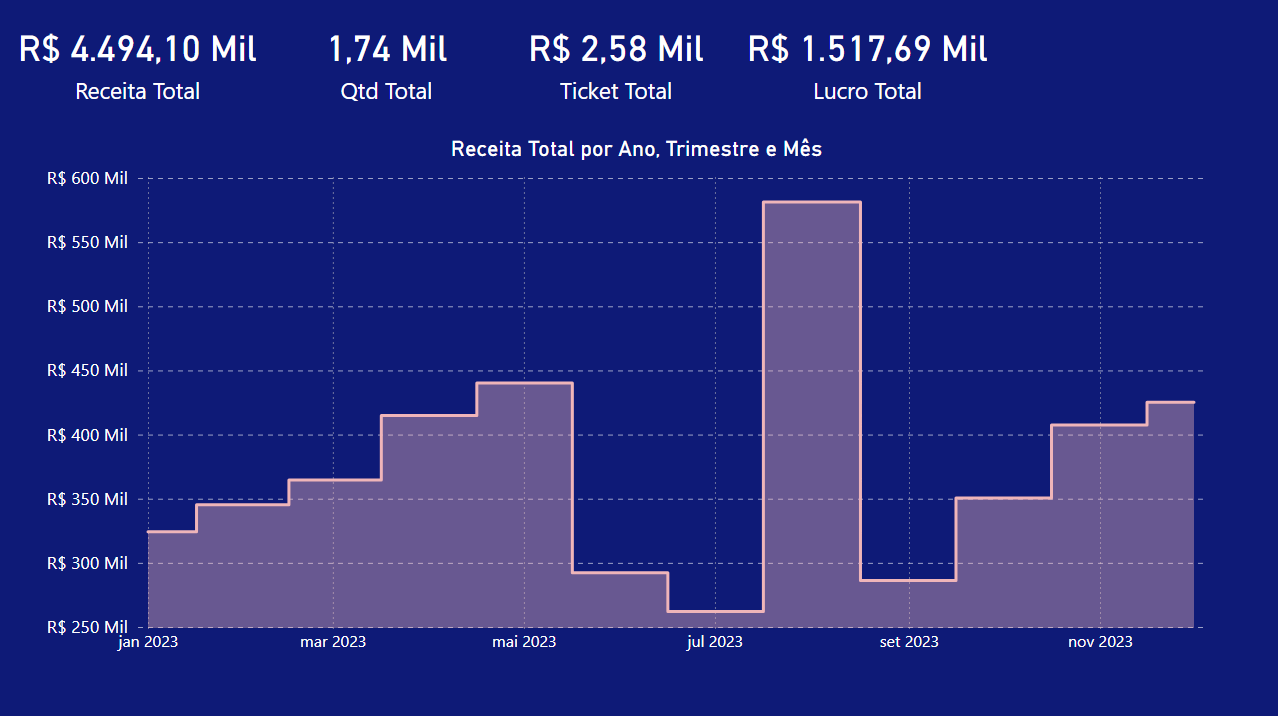

This screenshot's page, from the dashboard's own definition file:
{"tool":"powerbi","page":{"name":"Página 2","canvas":[1280,720],"ordinal":1},"visuals":[{"type":"card","fields":{"Values":["Medidas.Receita Total"]},"box":[0,0,274.8,122.9],"z":0},{"type":"card","fields":{"Values":["Medidas.Qtd Total"]},"box":[274.8,0,223.6,122.9],"z":1000},{"type":"card","fields":{"Values":["Medidas.Ticket Total"]},"box":[501.8,0,228.7,122.9],"z":2000},{"type":"card","fields":{"Values":["Medidas.Lucro Total"]},"box":[730.5,0,274.8,122.9],"z":3000},{"type":"lineChart","fields":{"Y":["Medidas.Receita Total"],"Category":["Vendas.Data.Variation.Hierarquia de datas.Ano","Vendas.Data.Variation.Hierarquia de datas.Trimestre","Vendas.Data.Variation.Hierarquia de datas.Mês","Vendas.Data.Variation.Hierarquia de datas.Dia"]},"box":[41,138.2,1191.3,525.7],"z":4000}]}

Visuals, with their boxes in screenshot pixels (x1, y1, x2, y2), scaled from the page's 1280x720 canvas onto the 1278x716 screenshot:
card - Medidas.Receita Total: <region>0, 0, 274, 122</region>
card - Medidas.Qtd Total: <region>274, 0, 498, 122</region>
card - Medidas.Ticket Total: <region>501, 0, 729, 122</region>
card - Medidas.Lucro Total: <region>729, 0, 1004, 122</region>
lineChart - Medidas.Receita Total x Vendas.Data.Variation.Hierarquia de datas.Ano: <region>41, 137, 1230, 660</region>
